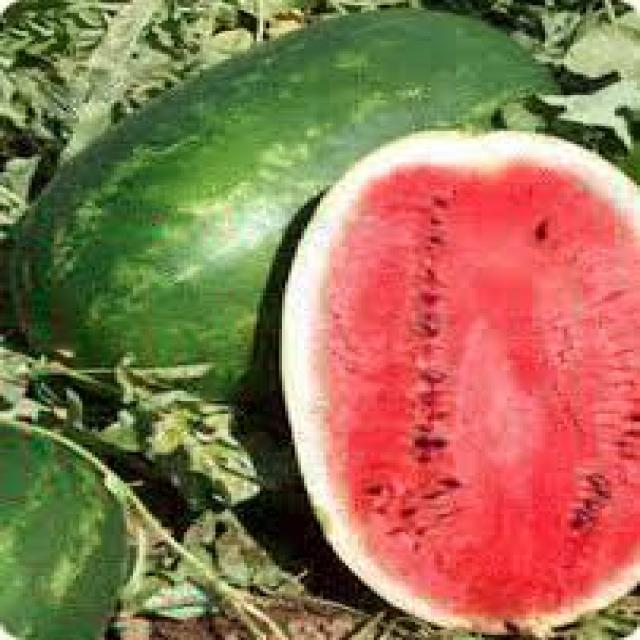watermelon: (6, 2, 561, 404), (276, 126, 636, 637), (0, 421, 135, 640)
